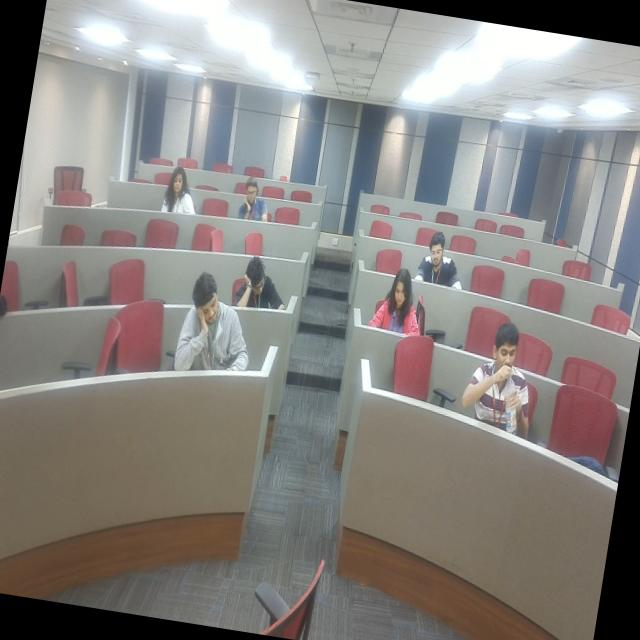non-cheating: (460, 308, 546, 479)
